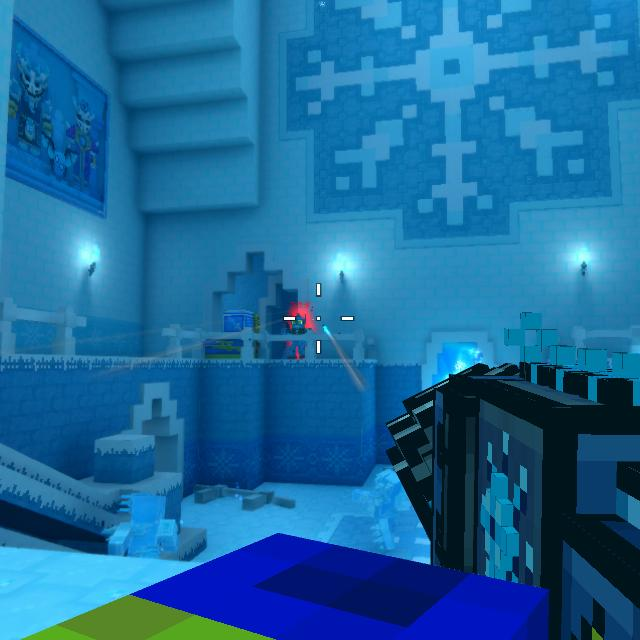Enemy: (281, 313, 315, 359)
